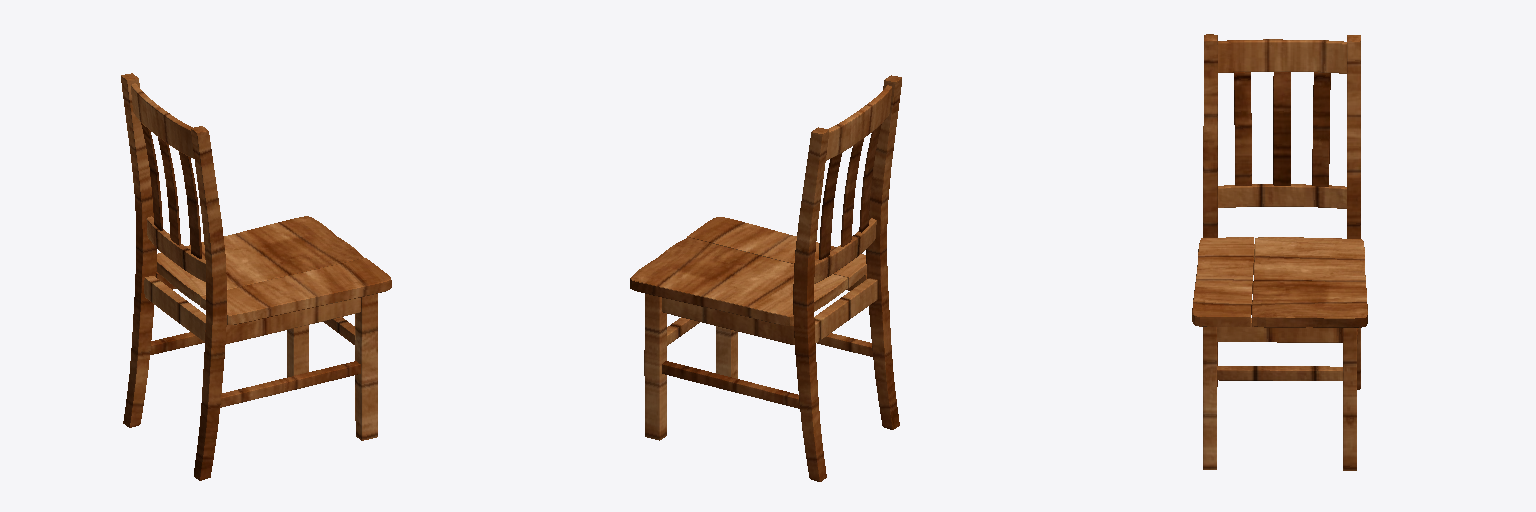
3 views of the same model, side by side, from view 1: azimuth 30°, elevation 25°; view 2: azimuth 150°, elevation 25°; view 3: azimuth 270°, elevation 25° (orthographic).
Visible parts, largest first — view 1: chair4:Mesh; view 2: chair4:Mesh; view 3: chair4:Mesh.
Boxes of the visible parts, box(x1,y1,x2,y2) form: chair4:Mesh: box(121, 73, 391, 480); chair4:Mesh: box(630, 75, 901, 481); chair4:Mesh: box(1192, 34, 1367, 470).
Size of the model in its own units: 2.09 by 3.56 by 1.62.
1 materials, 1 textured.